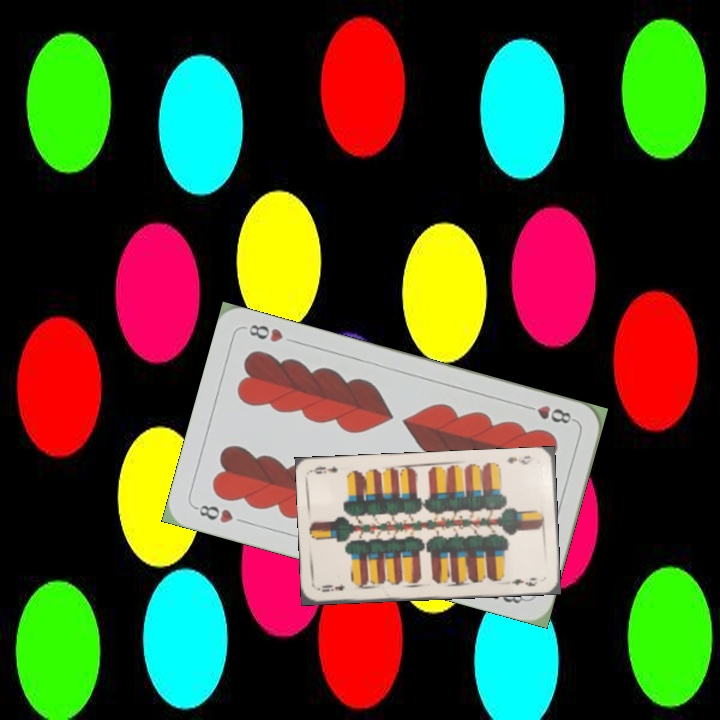E9: (503, 452, 539, 467), (315, 580, 347, 594)
H8: (520, 401, 578, 427), (190, 500, 236, 526)
